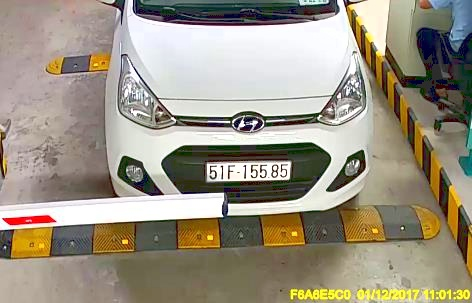plate: (202, 157, 291, 183)
